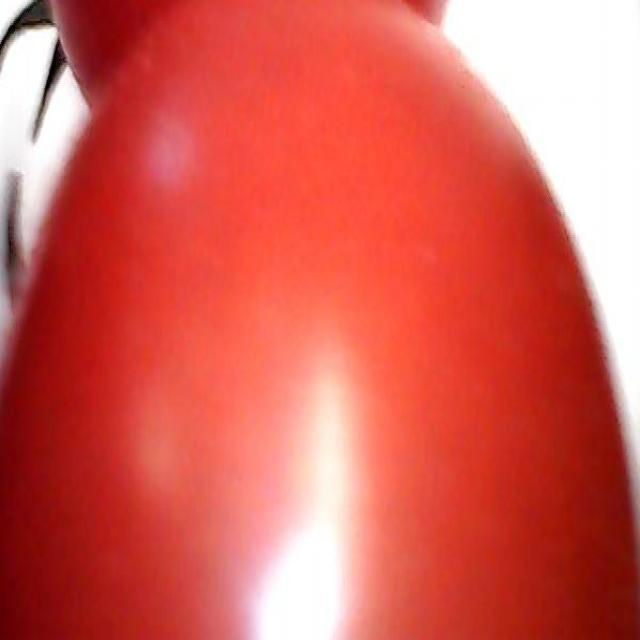Healthy: (2, 27, 639, 640)
